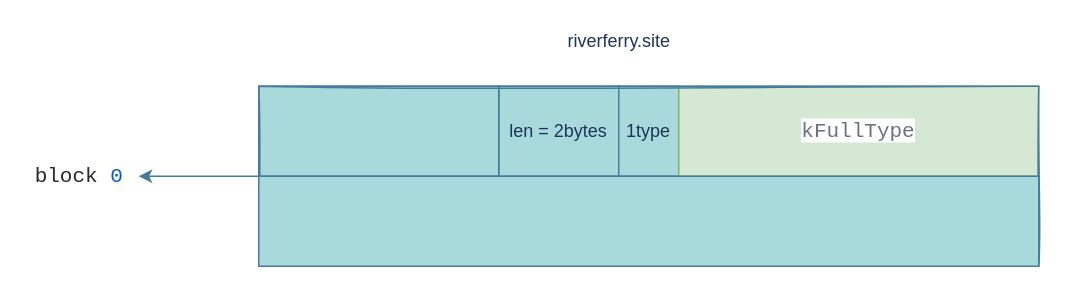
This 1065x300 diagram has some shape labels left out. Each missing label, with the centre of its shape:
crc = 4byte: [378,130]
used room: [648,220]
